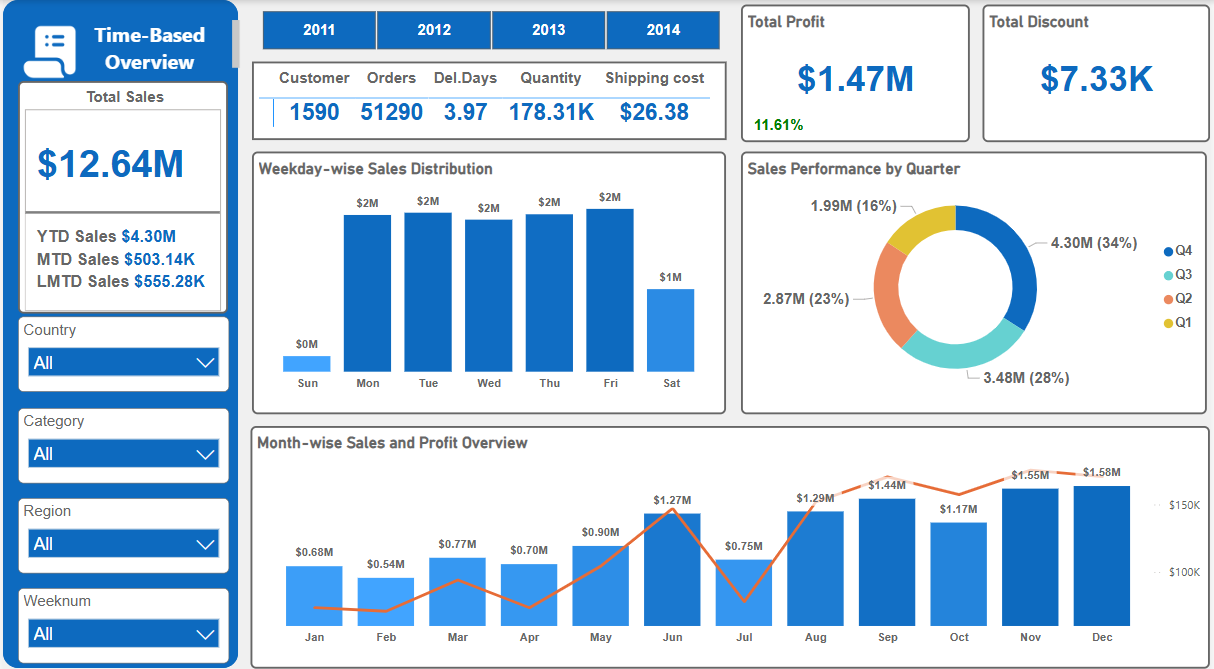

This screenshot's page, from the dashboard's own definition file:
{"tool":"powerbi","page":{"name":"Time-Based Overview","canvas":[1280,720],"ordinal":2},"visuals":[{"type":"shape","box":[0,0,249.4,708.7],"z":0},{"type":"cardVisual","title":"Total Sales","fields":{"Data":["Measures Table.Total Sales"]},"box":[15.6,86.5,222.5,246.6],"z":1000},{"type":"pivotTable","fields":{"Values":["Measures Table.Total Customer","Measures Table.Total Order","Measures Table.Avg Del.Days","Measures Table.Total Quantity","Measures Table.Avg shipping cost"]},"box":[263.6,65.2,503.1,83.6],"z":2000},{"type":"card","title":"Total Profit","fields":{"Values":["Measures Table.Total Profit"]},"box":[782.9,4.3,242.9,145.7],"z":3000},{"type":"card","fields":{"Values":["Measures Table.Profit Margin%"]},"box":[782.9,115.7,80,34.3],"z":4000},{"type":"card","title":"Total Discount","fields":{"Values":["Measures Table.Total Discount"]},"box":[1038.6,4.3,241.4,145.7],"z":5000},{"type":"slicer","fields":{"Values":["Calendar Table.Year"]},"box":[250,4.3,534.3,54.3],"z":6000},{"type":"slicer","title":"Weeknum","fields":{"Values":["Calendar Table.Weeknum"]},"box":[16,624,224,80],"z":7000},{"type":"slicer","title":"Country","fields":{"Values":["Power BI Assignment - Power BI Dashboard (1).Country"]},"box":[16,336,224,80],"z":8000},{"type":"slicer","title":"Region","fields":{"Values":["Power BI Assignment - Power BI Dashboard (1).Region"]},"box":[16,528,224,80],"z":9000},{"type":"slicer","title":"Category","fields":{"Values":["Power BI Assignment - Power BI Dashboard (1).Category"]},"box":[16,432,224,80],"z":10000},{"type":"image","box":[0,0,96,112],"z":11000},{"type":"lineStackedColumnComboChart","title":"Month-wise Sales and Profit Overview","fields":{"Category":["Calendar Table.Month"],"Y":["Measures Table.Total Sales"],"Y2":["Measures Table.Total Profit"]},"box":[262.9,451.4,1017.1,257.1],"z":12000},{"type":"donutChart","title":"Sales Performance by Quarter","fields":{"Category":["Calendar Table.Quarter"],"Y":["Sum(Power BI Assignment - Power BI Dashboard (1).Sales)"]},"box":[782.9,160,494.3,278.6],"z":13000},{"type":"columnChart","title":"Weekday-wise Sales Distribution","fields":{"Category":["Calendar Table.Week Day"],"Y":["Measures Table.Total Sales"]},"box":[264.3,160,502.9,278.6],"z":14000},{"type":"textbox","box":[64,16,192,64],"z":15000}]}

Visuals, with their boxes in screenshot pixels (x1, y1, x2, y2), scaled from the page's 1280x720 canvas onto the 1214x669 screenshot:
shape: (x1=0, y1=0, x2=237, y2=659)
"Total Sales" cardVisual: (x1=15, y1=80, x2=226, y2=310)
pivotTable - Measures Table.Total Customer x Measures Table.Total Order: (x1=250, y1=61, x2=727, y2=138)
"Total Profit" card: (x1=743, y1=4, x2=973, y2=139)
card - Measures Table.Profit Margin%: (x1=743, y1=108, x2=818, y2=139)
"Total Discount" card: (x1=985, y1=4, x2=1213, y2=139)
slicer - Calendar Table.Year: (x1=237, y1=4, x2=744, y2=54)
"Weeknum" slicer: (x1=15, y1=580, x2=228, y2=654)
"Country" slicer: (x1=15, y1=312, x2=228, y2=387)
"Region" slicer: (x1=15, y1=491, x2=228, y2=565)
"Category" slicer: (x1=15, y1=401, x2=228, y2=476)
image: (x1=0, y1=0, x2=91, y2=104)
"Month-wise Sales and Profit Overview" lineStackedColumnComboChart: (x1=249, y1=419, x2=1213, y2=658)
"Sales Performance by Quarter" donutChart: (x1=743, y1=149, x2=1211, y2=408)
"Weekday-wise Sales Distribution" columnChart: (x1=251, y1=149, x2=728, y2=408)
textbox: (x1=61, y1=15, x2=243, y2=74)
